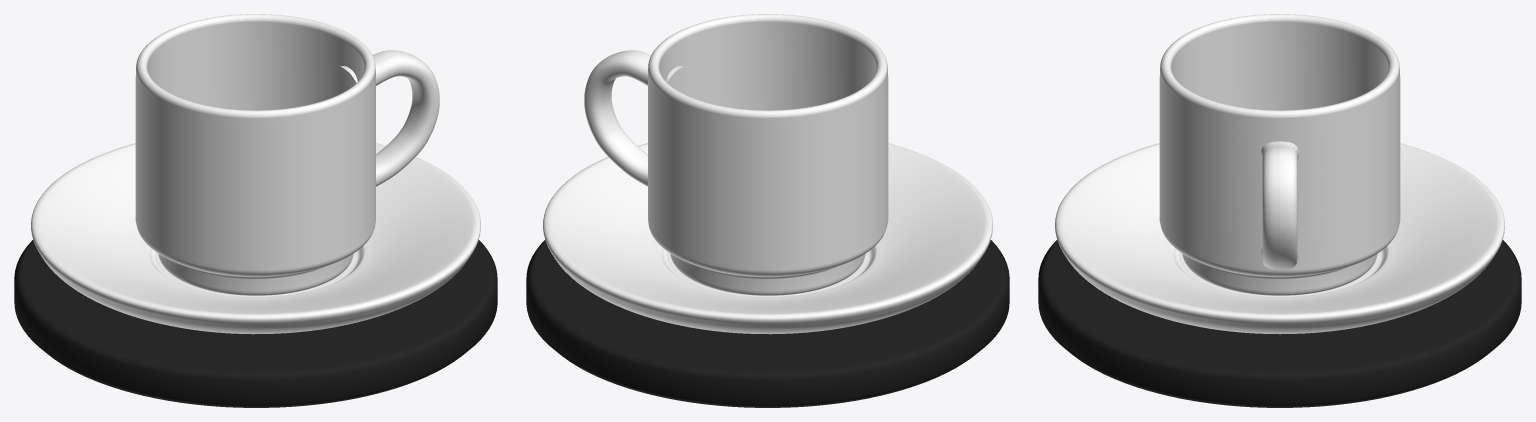
Rendered from xicara_180ml_com_base.glb.
3 renders of one model, left to right at view 1: azimuth 30°, elevation 25°; view 2: azimuth 150°, elevation 25°; view 3: azimuth 270°, elevation 25°, orthographic.
Parts seen in each view (by area): view 1: Base_Apoio, Pires_Porcelana, Area_Arte, Interior_Xicara, Corpo_Externo_Xicara, Alca_Xicara; view 2: Base_Apoio, Pires_Porcelana, Area_Arte, Interior_Xicara, Corpo_Externo_Xicara, Alca_Xicara; view 3: Pires_Porcelana, Base_Apoio, Corpo_Externo_Xicara, Interior_Xicara, Area_Arte, Alca_Xicara.
Part boxes in pixels (x1,y1,x2,y2): Base_Apoio: (14,240,497,407); Pires_Porcelana: (31,143,480,334); Area_Arte: (135,76,375,268); Interior_Xicara: (140,14,371,111); Corpo_Externo_Xicara: (136,14,375,295); Alca_Xicara: (340,50,439,186); Base_Apoio: (526,240,1009,407); Pires_Porcelana: (543,143,992,334); Area_Arte: (648,76,888,268); Interior_Xicara: (652,14,883,111); Corpo_Externo_Xicara: (648,14,887,295); Alca_Xicara: (584,50,683,186); Pires_Porcelana: (1055,143,1504,334); Base_Apoio: (1038,240,1521,407); Corpo_Externo_Xicara: (1160,14,1399,295); Interior_Xicara: (1164,14,1395,111); Area_Arte: (1159,76,1400,257); Alca_Xicara: (1260,141,1299,269).
Size of the model in its own units: 0.154 by 0.0866 by 0.154.
5 materials, 1 textured.
